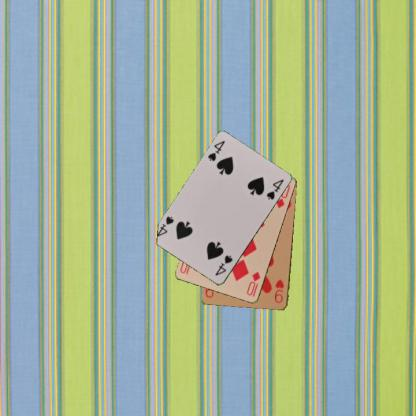10d: (244, 269, 262, 297)
4s: (205, 138, 227, 163), (213, 253, 234, 277)
9h: (272, 277, 285, 305)
